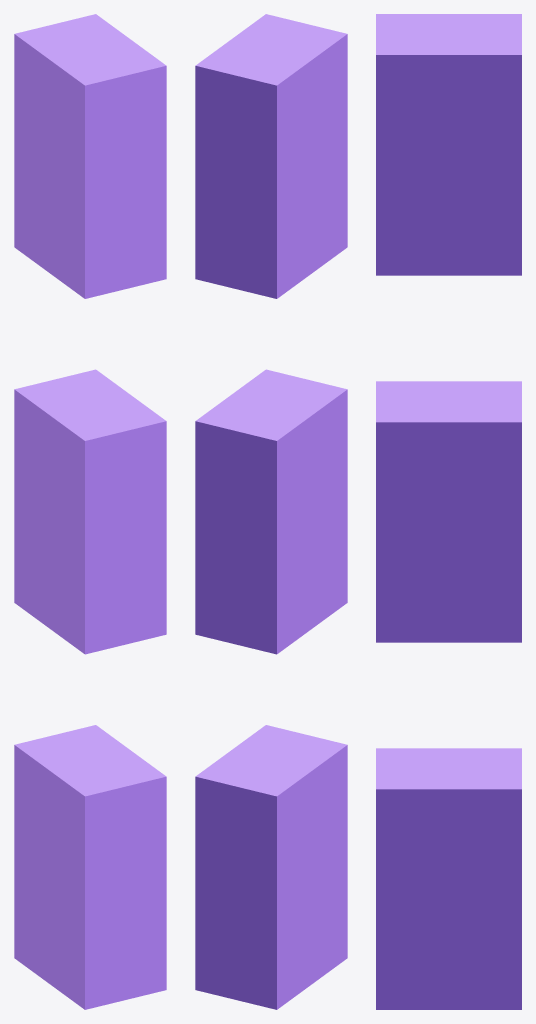
The model's file is Ghost_DashV.gltf.
The picture shows the model from 3 angles, left to right: view 1: azimuth 30°, elevation 25°; view 2: azimuth 150°, elevation 25°; view 3: azimuth 270°, elevation 25°; orthographic projection. The views are drawn at different scales.
Parts seen in each view (by area): view 1: Ghost_DashV_baked; view 2: Ghost_DashV_baked; view 3: Ghost_DashV_baked.
Part boxes in pixels (<box>): Ghost_DashV_baked: <box>14,14,166,1009</box>; Ghost_DashV_baked: <box>195,14,347,1009</box>; Ghost_DashV_baked: <box>376,14,521,1009</box>.
Bounding box in the file's own units: 0.08 × 0.866 × 0.12.
